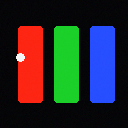0 point: (16, 53, 24, 61)
